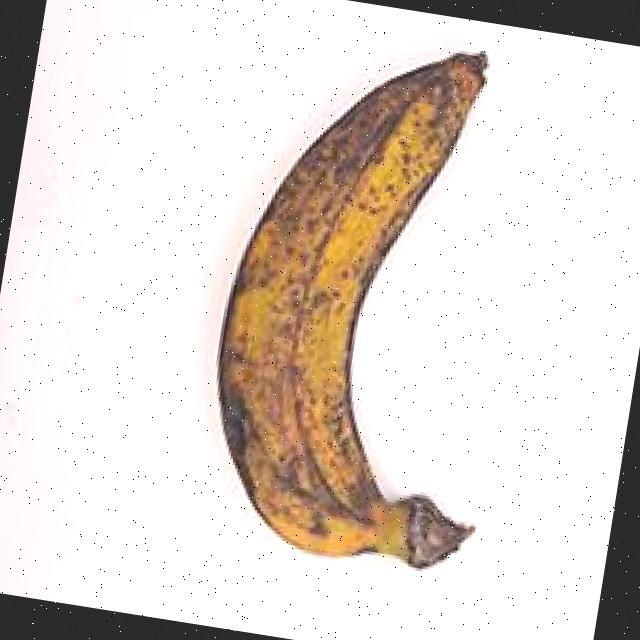Overripe: (154, 0, 584, 607)
